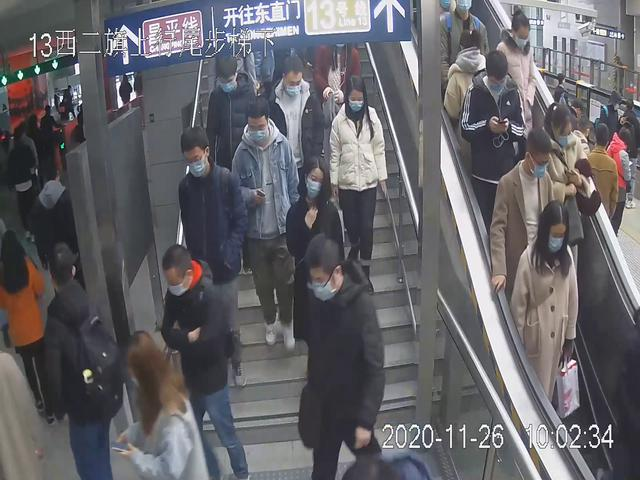person: (292, 235, 397, 480), (158, 238, 255, 480), (34, 239, 122, 480), (176, 124, 256, 388), (226, 95, 301, 353), (503, 199, 580, 442), (486, 124, 560, 360), (458, 45, 527, 271), (531, 99, 602, 310), (328, 70, 388, 295), (263, 53, 326, 233), (201, 51, 261, 231), (487, 5, 541, 204)
